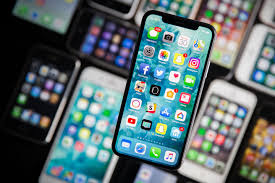iphone: (110, 5, 216, 168)
iphone10: (108, 7, 214, 170)
